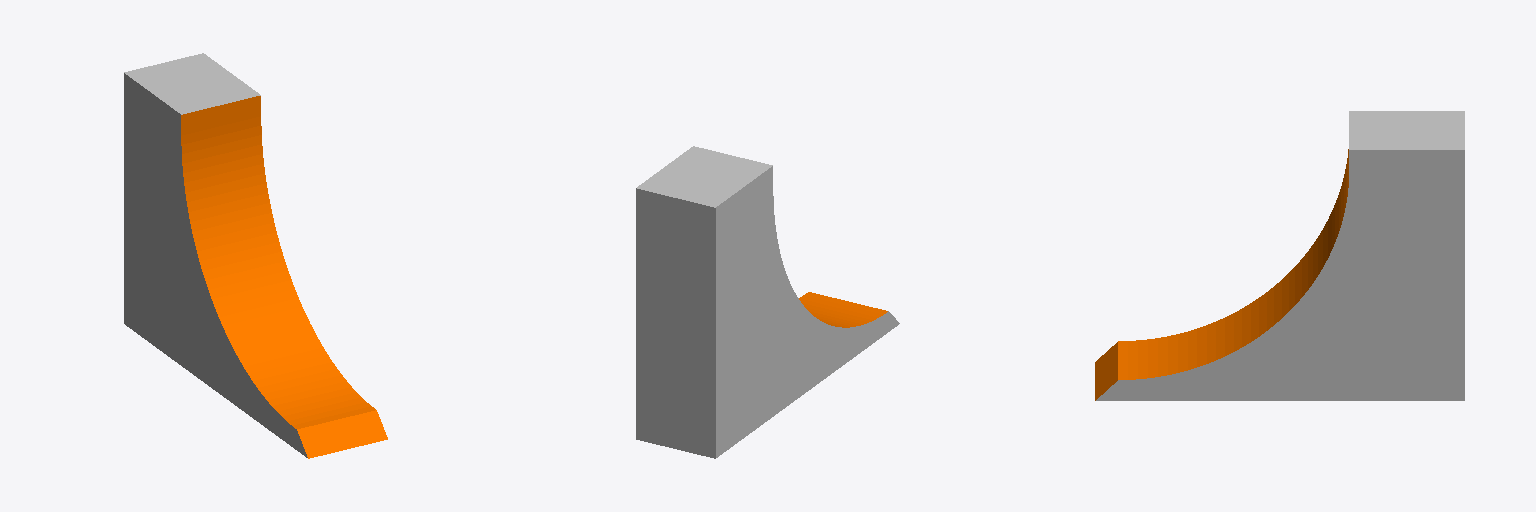
The model's file is quarterpipe.obj.
3 views of the same model, side by side, from view 1: azimuth 30°, elevation 25°; view 2: azimuth 150°, elevation 25°; view 3: azimuth 270°, elevation 25° (orthographic).
Visible parts, largest first — view 1: Quarterpipe; view 2: Quarterpipe; view 3: Quarterpipe.
Part boxes in pixels (left/top/right/bottom): Quarterpipe: left=124, top=53, right=387, bottom=458; Quarterpipe: left=636, top=146, right=899, bottom=458; Quarterpipe: left=1095, top=111, right=1464, bottom=400.
Bounding box in the file's own units: 4 × 12 × 16.